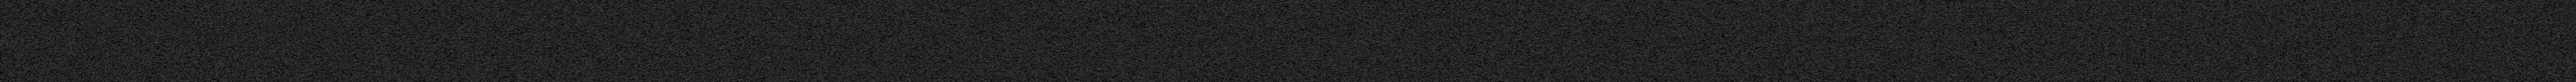wv_cw: (30, 0, 34, 82), (440, 0, 444, 82), (1180, 0, 1183, 82)
wv_lsb: (1316, 0, 1319, 69), (84, 44, 85, 82), (1316, 71, 1319, 82), (84, 25, 85, 44), (84, 0, 85, 13), (84, 16, 85, 25), (84, 13, 85, 16)
wv_usb: (416, 33, 419, 34)
wv_wbfm: (1587, 0, 1626, 75), (1592, 77, 1623, 82)
